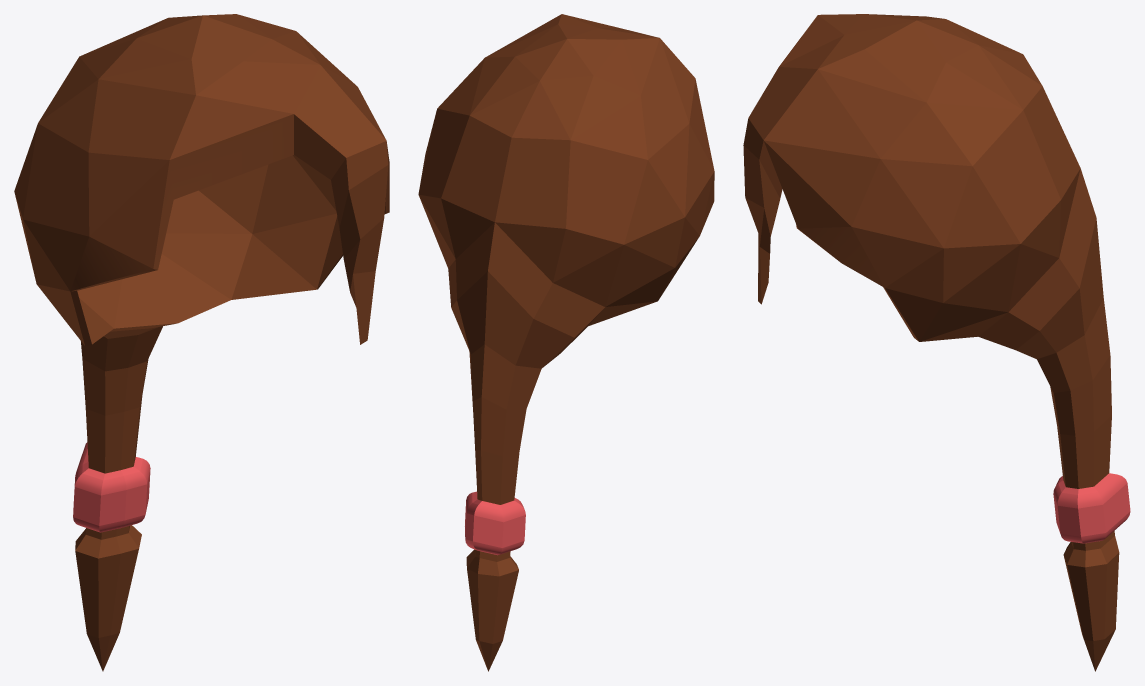
The model's file is HairCut9.fbx.
3 renders of one model, left to right at view 1: azimuth 30°, elevation 25°; view 2: azimuth 150°, elevation 25°; view 3: azimuth 270°, elevation 25°, orthographic. The views are drawn at different scales.
Visible parts, largest first — view 1: characterBase.001; view 2: characterBase.001; view 3: characterBase.001.
Boxes of the visible parts, x1,y1,x2,y2 form: characterBase.001: (14, 14, 389, 671); characterBase.001: (418, 14, 714, 671); characterBase.001: (743, 14, 1130, 671).
Size of the model in its own units: 62.99 by 133 by 71.79.
